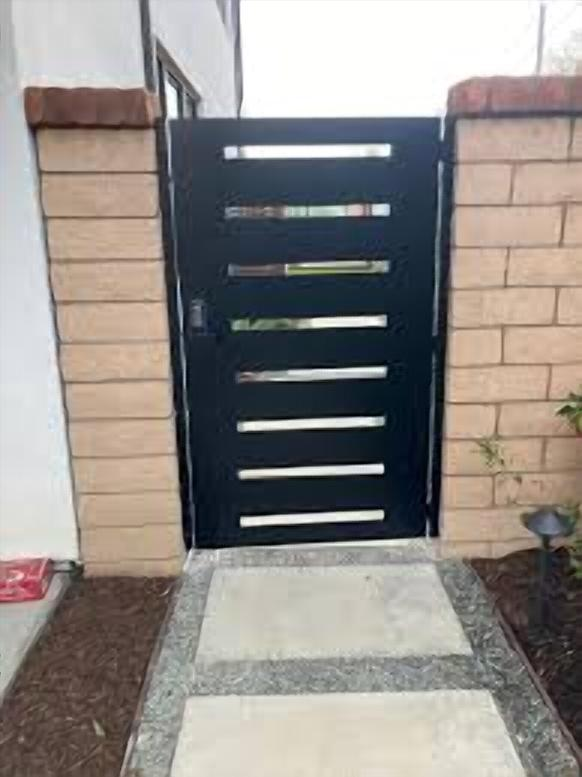Gate: (164, 116, 450, 552)
Window-without-grill: (154, 58, 198, 142)
